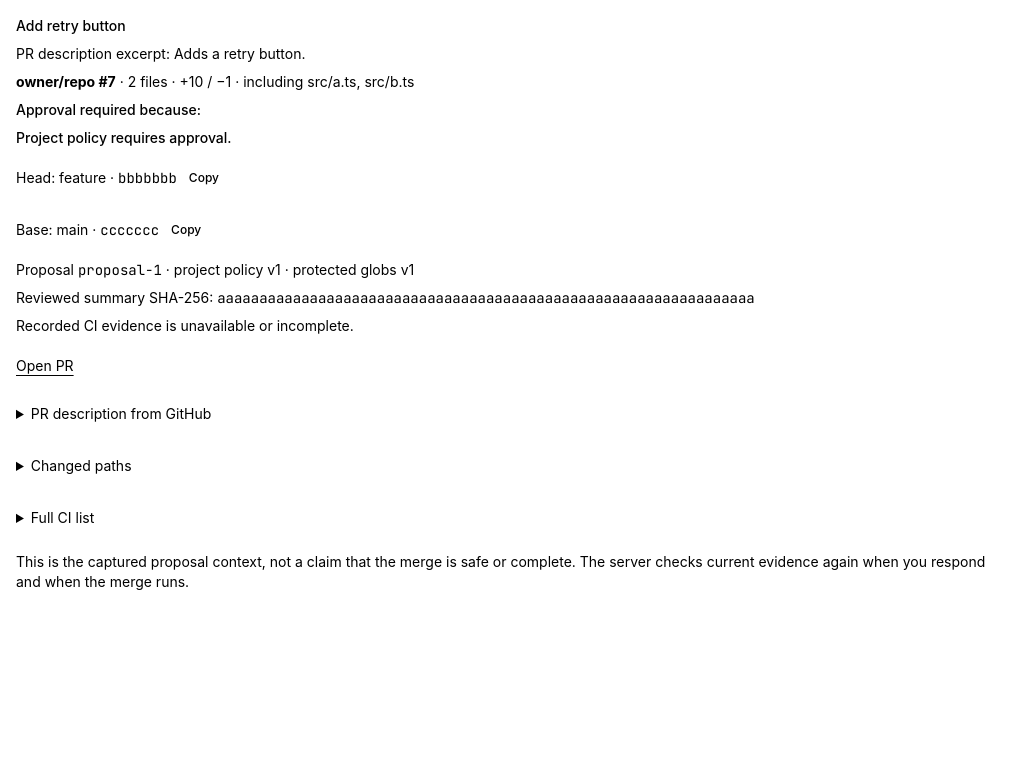
it: detail paging › ignores a cursor that does not move forward
Click the heading "Changed paths": (81, 466) [31,457,132,474]
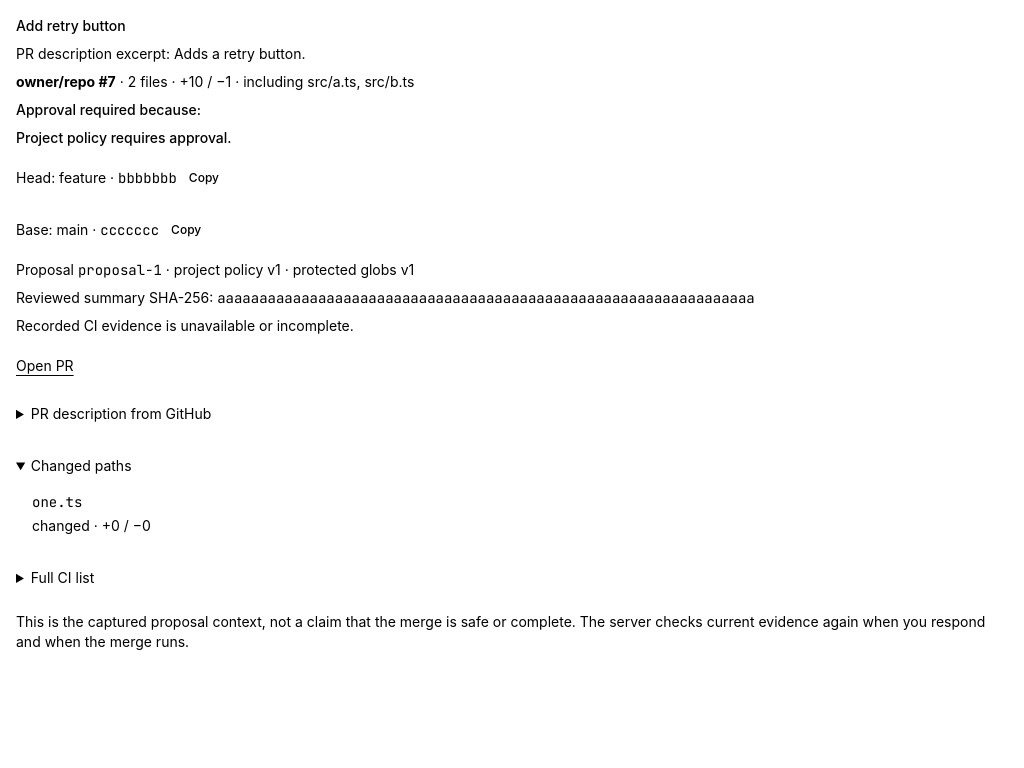
Expected: the text "one.ts" is shown, [32,493,82,511]
